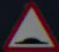Speed Breaker ahead: (7, 9, 50, 48)
